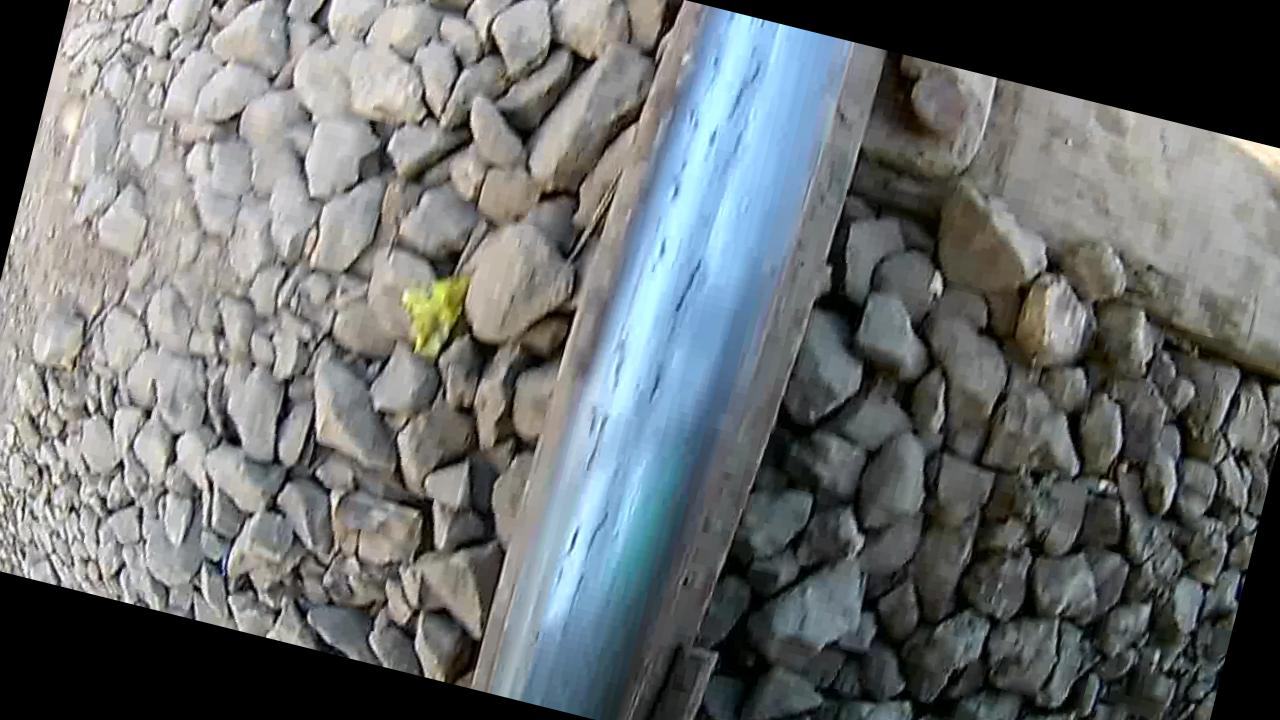normal_track: (544, 39, 776, 604)
